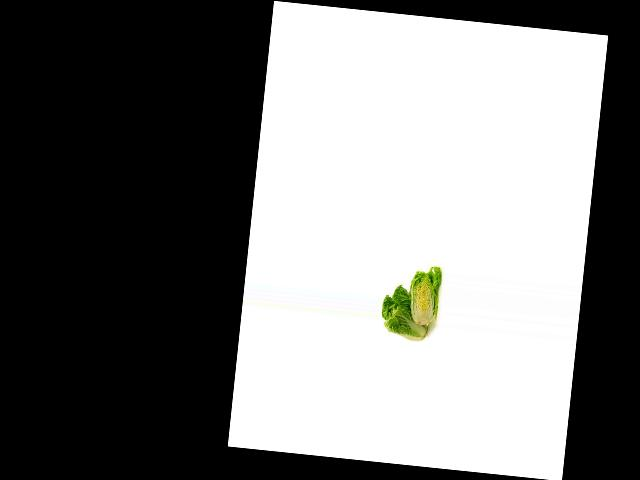lettuce: (376, 280, 435, 343)
